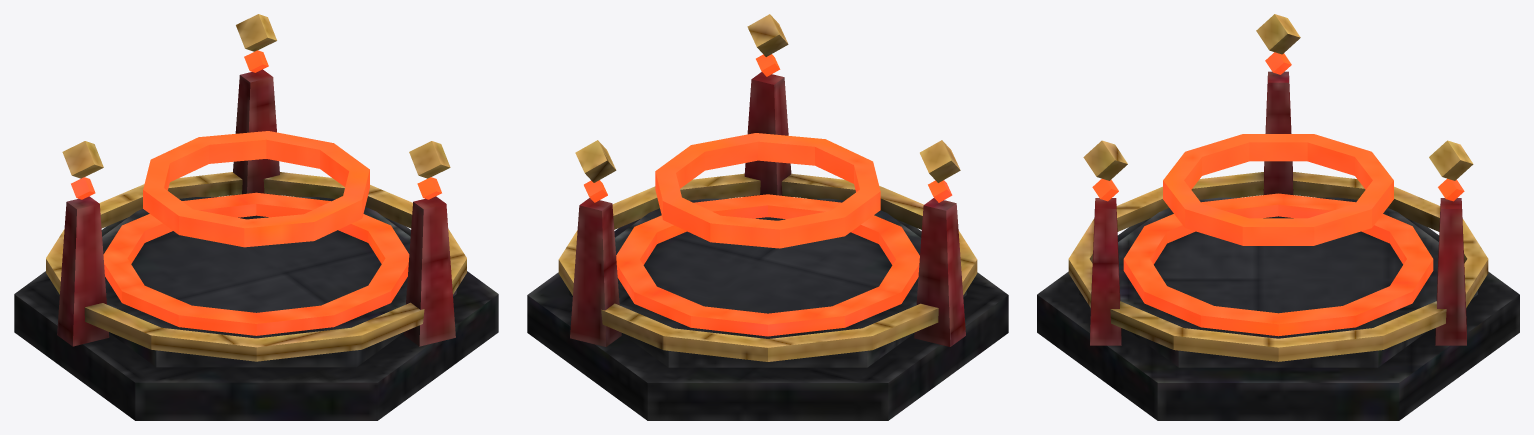
Rendered from u_arcbase4_e.glb.
The picture shows the model from 3 angles, left to right: view 1: azimuth 30°, elevation 25°; view 2: azimuth 150°, elevation 25°; view 3: azimuth 270°, elevation 25°; orthographic projection.
Visible parts, largest first — view 1: u_arcbase4_e; view 2: u_arcbase4_e; view 3: u_arcbase4_e.
Part boxes in pixels (<box>): u_arcbase4_e: <box>14,14,498,420</box>; u_arcbase4_e: <box>527,14,1008,420</box>; u_arcbase4_e: <box>1037,14,1519,420</box>.
Size of the model in its own units: 0.9922 by 0.5961 by 1.11.
Materials: 1 (1 with a texture image).
